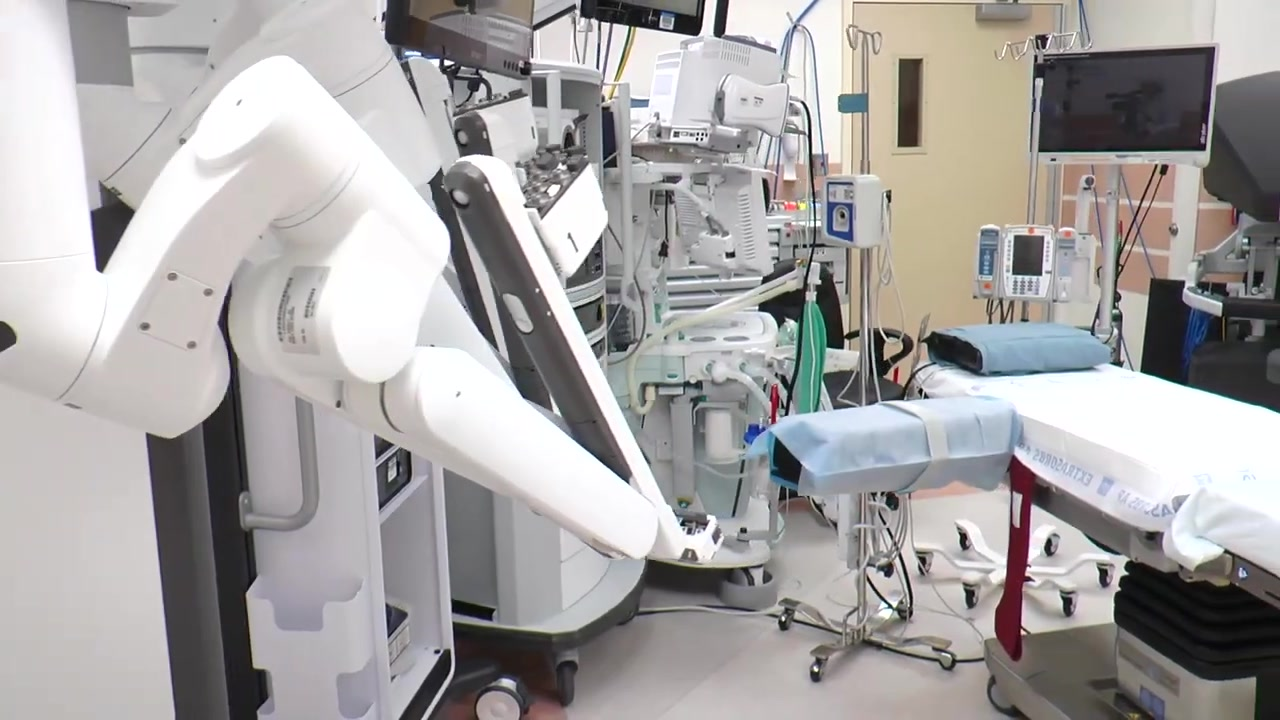bedside_monitor: (1036, 44, 1218, 169)
breathing_tube: (713, 360, 833, 414)
chair: (760, 261, 915, 410)
handle: (238, 395, 318, 533)
infusion_pump: (975, 223, 1097, 307), (821, 172, 885, 249)
iv_pole: (835, 25, 882, 624), (993, 30, 1093, 221)
operating_bed: (740, 322, 1280, 720)
ventilator: (613, 169, 793, 600)
